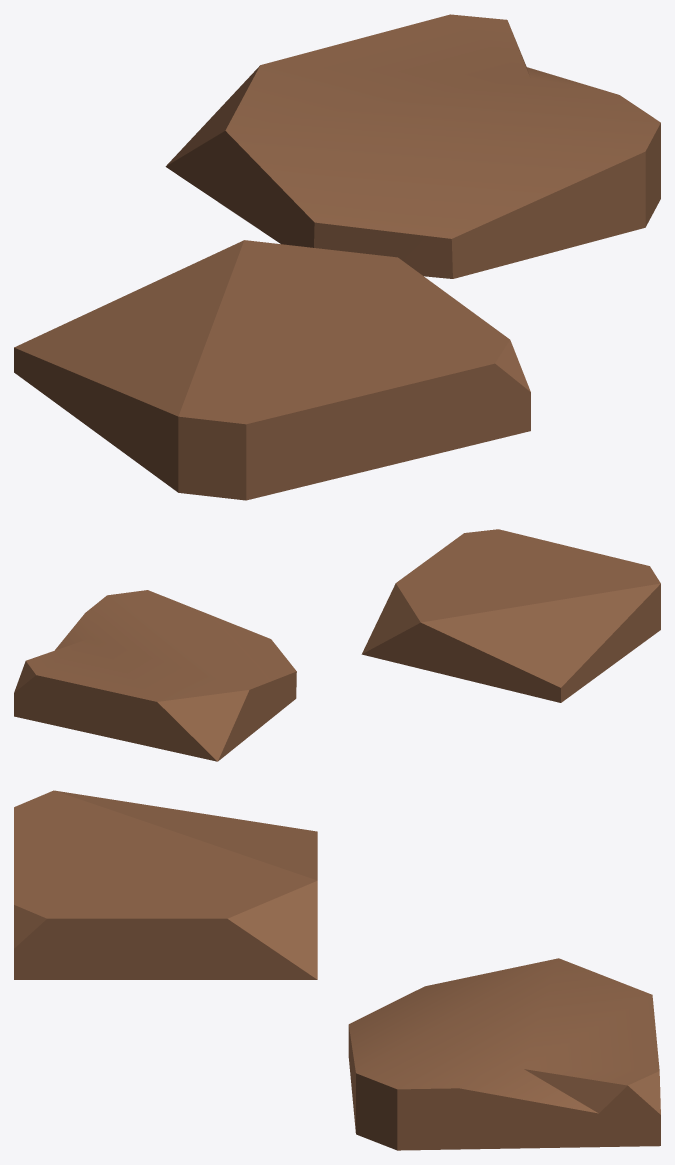
Rendered from Stonewalk_005.FBX.
The picture shows the model from 3 angles, top to bottom: view 1: azimuth 30°, elevation 25°; view 2: azimuth 150°, elevation 25°; view 3: azimuth 270°, elevation 25°; orthographic projection. The views are drawn at different scales.
Parts seen in each view (by area): view 1: Stonewalk_005; view 2: Stonewalk_005; view 3: Stonewalk_005.
Boxes of the visible parts, x1,y1,x2,y2 form: Stonewalk_005: (14, 14, 660, 500); Stonewalk_005: (14, 529, 660, 761); Stonewalk_005: (14, 790, 660, 1150).
Bounding box in the file's own units: 37.65 × 5.62 × 37.75.
